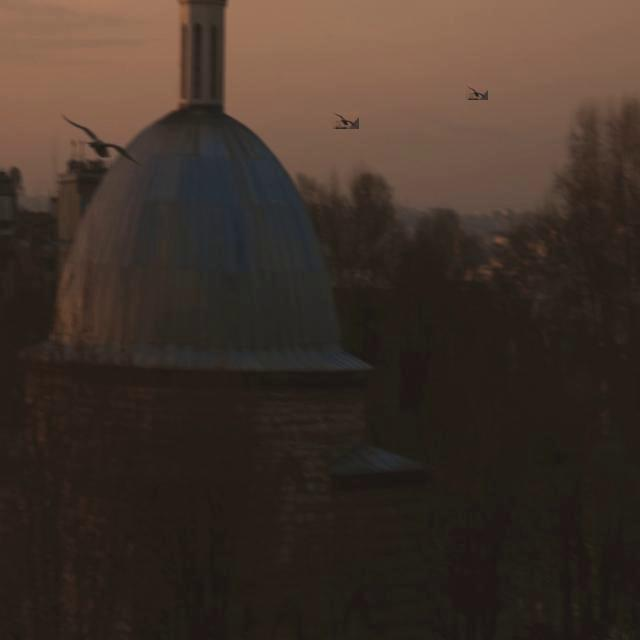bird: (56, 109, 150, 172), (330, 108, 365, 133), (466, 87, 488, 100)
